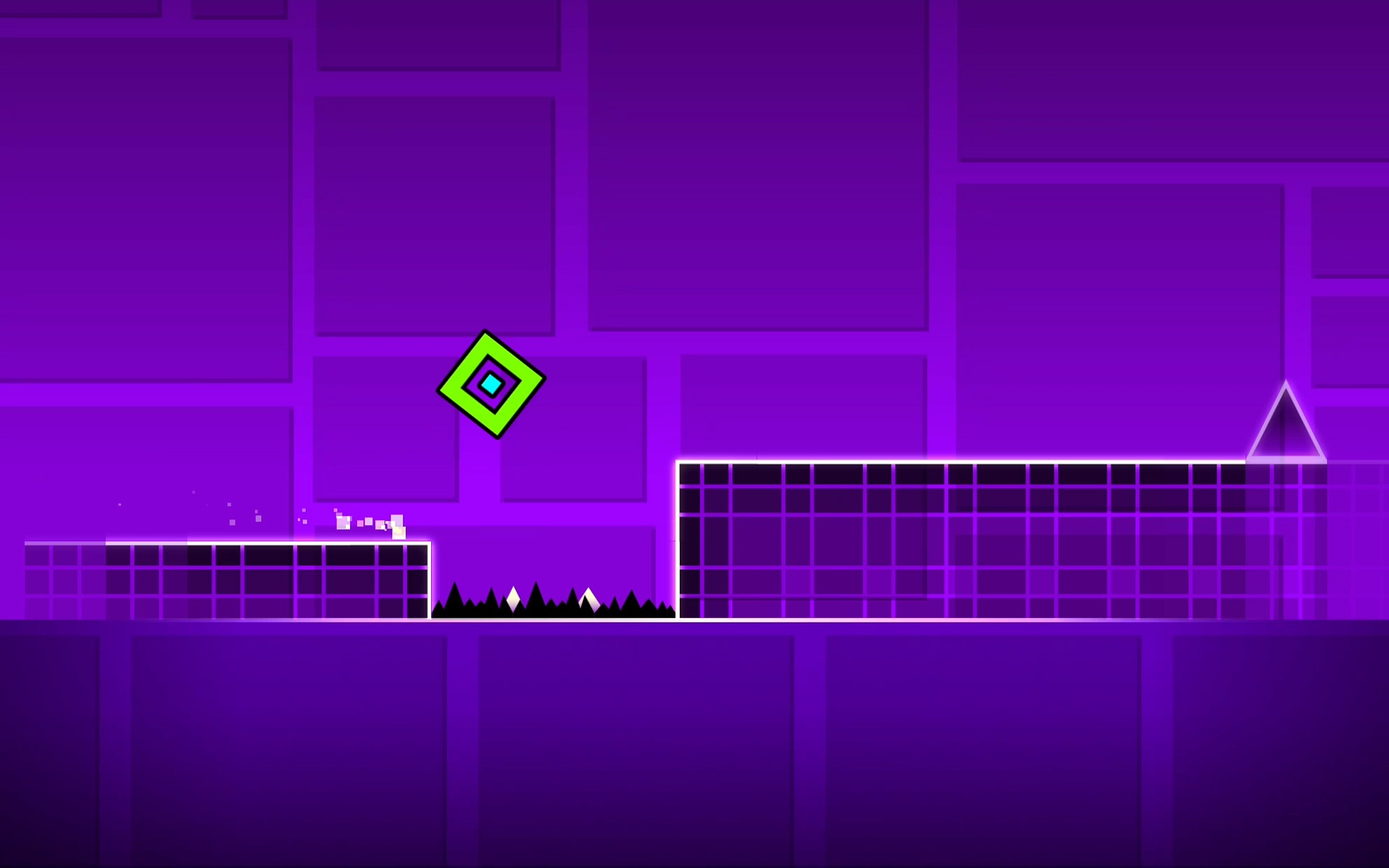Block2: (664, 458, 1383, 612), (17, 542, 433, 620)
Player: (436, 330, 546, 436)
Spike: (1246, 383, 1326, 460)
Spike3: (431, 582, 673, 622)
